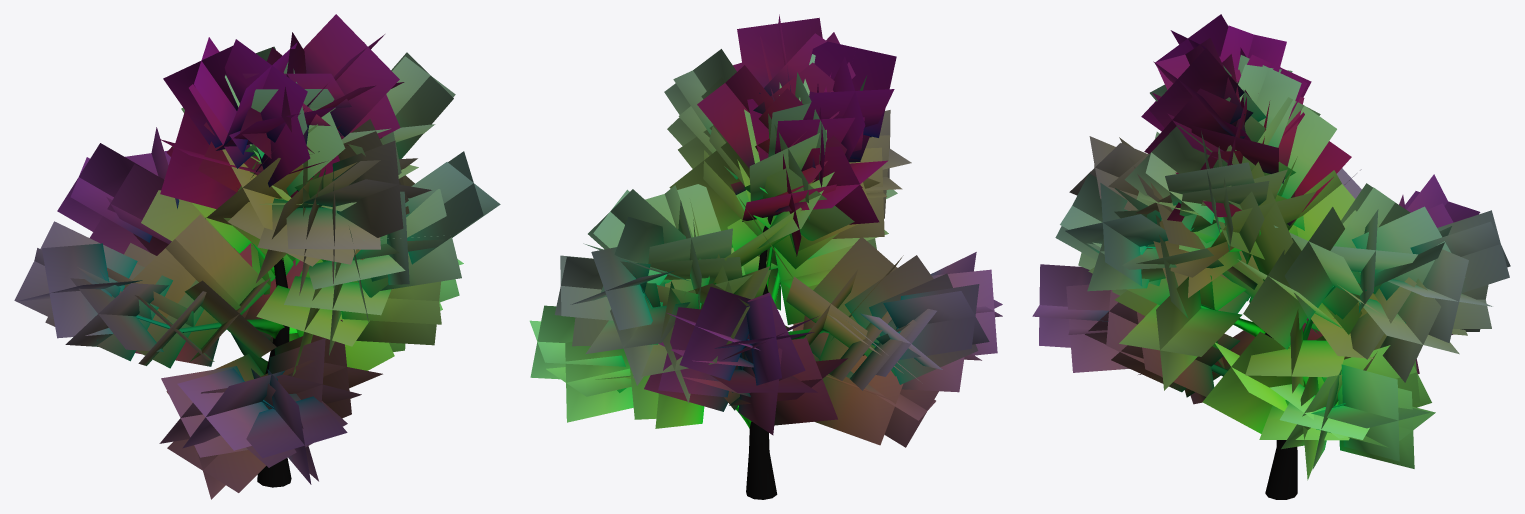
Rendered from URP_P11_Tree_3_LOD_2.fbx.
The picture shows the model from 3 angles, left to right: view 1: azimuth 30°, elevation 25°; view 2: azimuth 150°, elevation 25°; view 3: azimuth 270°, elevation 25°; orthographic projection. The views are drawn at different scales.
Parts seen in each view (by area): view 1: Tree_3_LOD_2; view 2: Tree_3_LOD_2; view 3: Tree_3_LOD_2.
Part boxes in pixels (x1,y1,x2,y2): Tree_3_LOD_2: [14, 14, 500, 499]; Tree_3_LOD_2: [529, 14, 1002, 499]; Tree_3_LOD_2: [1032, 14, 1510, 499].
Size of the model in its own units: 582 by 602 by 574.
